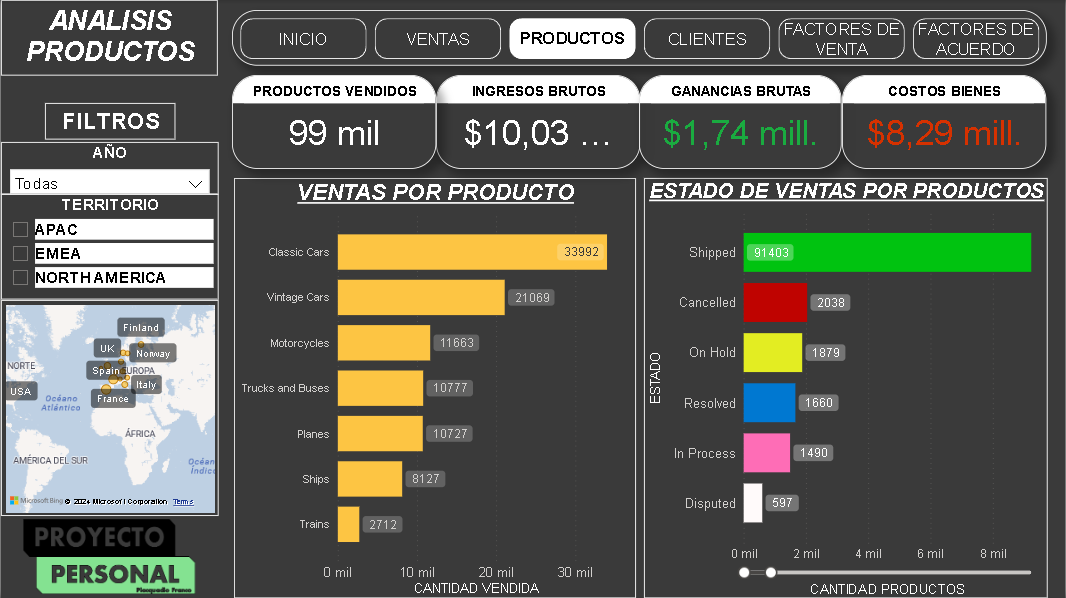

The dashboard page shown, as its layout file describes it:
{"tool":"powerbi","page":{"name":"PRODUCTOS","canvas":[1280,720],"ordinal":2},"visuals":[{"type":"pageNavigator","box":[278.5,11.8,981.5,67],"z":0},{"type":"textbox","box":[0,0,261,91.1],"z":1000},{"type":"textbox","box":[52.9,124.3,157.1,44.3],"z":2000},{"type":"image","box":[0,620.6,261.3,99.5],"z":3000},{"type":"slicer","title":"TERRITORIO","fields":{"Values":["LOCATIONS.Territory"]},"box":[0,234,261.5,126.6],"z":4000},{"type":"map","title":"VENTAS POR PAIS","fields":{"Size":["_MEDIDAS.TOTAL_VENTAS"],"Category":["LOCATIONS.Country"]},"box":[0,360.6,261.5,260.1],"z":5000},{"type":"barChart","title":"ESTADO DE VENTAS POR PRODUCTOS","fields":{"Category":["ORDERS.Status"],"Y":["_MEDIDAS.CANTIDAD_PRODUCTOS"]},"box":[773.8,213.8,486.2,506.2],"z":6000},{"type":"barChart","title":"VENTAS POR PRODUCTO","fields":{"Category":["PRODUCTS.ProductLine"],"Y":["_MEDIDAS.CANTIDAD_PRODUCTOS"]},"box":[280,213.8,483.8,506.2],"z":7000},{"type":"slicer","title":"AÑO","fields":{"Values":["CALENDARIO.AÑO"]},"box":[0,170.7,261.5,63.3],"z":8000},{"type":"card","title":"INGRESOS BRUTOS","fields":{"Values":["_MEDIDAS.TOTAL_VENTAS"]},"box":[524.3,90,245.7,112.9],"z":9000},{"type":"card","title":"GANANCIAS BRUTAS","fields":{"Values":["_MEDIDAS.INGRESOS"]},"box":[768.6,90,244.3,112.9],"z":10000},{"type":"card","title":"COSTOS BIENES","fields":{"Values":["_MEDIDAS.COSTOS"]},"box":[1012.9,90,245.7,112.9],"z":11000},{"type":"card","title":"PRODUCTOS VENDIDOS","fields":{"Values":["_MEDIDAS.CANTIDAD_PRODUCTOS"]},"box":[278.6,90,245.7,112.9],"z":12000}]}

Visuals, with their boxes in screenshot pixels (x1, y1, x2, y2), scaled from the page's 1280x720 canvas onto the 1066x598 screenshot:
pageNavigator: x1=232, y1=10, x2=1049, y2=65
textbox: x1=0, y1=0, x2=217, y2=76
textbox: x1=44, y1=103, x2=175, y2=140
image: x1=0, y1=515, x2=218, y2=597
"TERRITORIO" slicer: x1=0, y1=194, x2=218, y2=299
"VENTAS POR PAIS" map: x1=0, y1=299, x2=218, y2=516
"ESTADO DE VENTAS POR PRODUCTOS" barChart: x1=644, y1=178, x2=1049, y2=597
"VENTAS POR PRODUCTO" barChart: x1=233, y1=178, x2=636, y2=597
"AÑO" slicer: x1=0, y1=142, x2=218, y2=194
"INGRESOS BRUTOS" card: x1=437, y1=75, x2=641, y2=169
"GANANCIAS BRUTAS" card: x1=640, y1=75, x2=844, y2=169
"COSTOS BIENES" card: x1=844, y1=75, x2=1048, y2=169
"PRODUCTOS VENDIDOS" card: x1=232, y1=75, x2=437, y2=169
